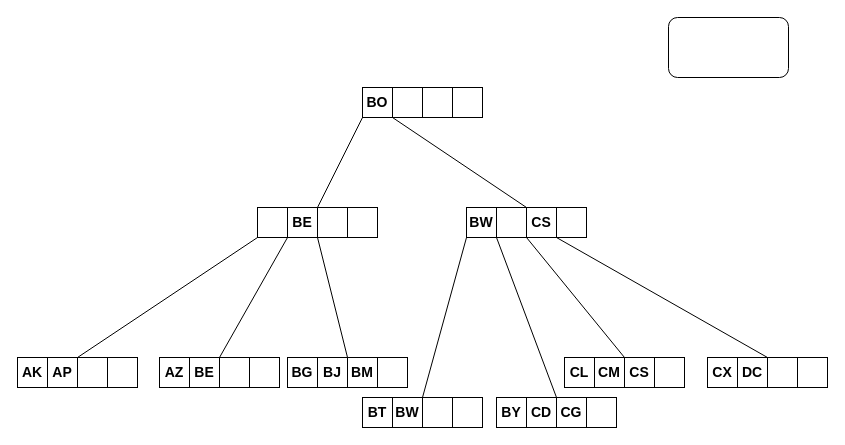
The diagram is 845 pixels wide and 445 high, and some of its shapes have lost their labels. Here are the shapes that lost their labels. From the top down, the box of each, then its label:
(668, 16, 788, 78): remover CN
(256, 206, 288, 238): AU
(496, 206, 526, 238): CI
(766, 356, 798, 388): DH
